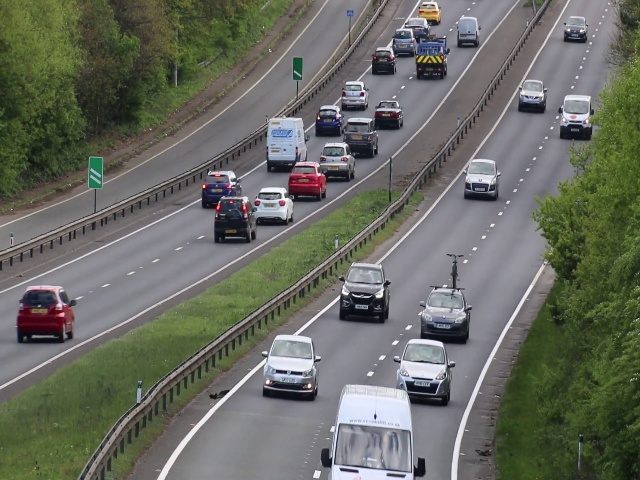car: (322, 405, 422, 480), (16, 285, 77, 346), (397, 338, 452, 404), (262, 335, 322, 394), (336, 261, 390, 325), (419, 286, 471, 343), (266, 114, 305, 172), (213, 197, 259, 241), (286, 161, 327, 202), (255, 184, 295, 224), (201, 167, 243, 205), (318, 141, 357, 181), (463, 158, 499, 200), (560, 96, 592, 141), (416, 40, 449, 79), (346, 117, 379, 156), (516, 78, 546, 112), (314, 104, 344, 135), (370, 46, 398, 76), (341, 79, 369, 109), (375, 100, 403, 128), (563, 13, 588, 43), (457, 14, 480, 46), (418, 1, 441, 24), (391, 31, 414, 54), (405, 16, 429, 38)
